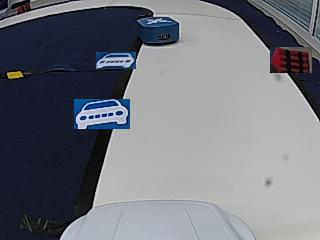prop: (137, 17, 180, 46)
